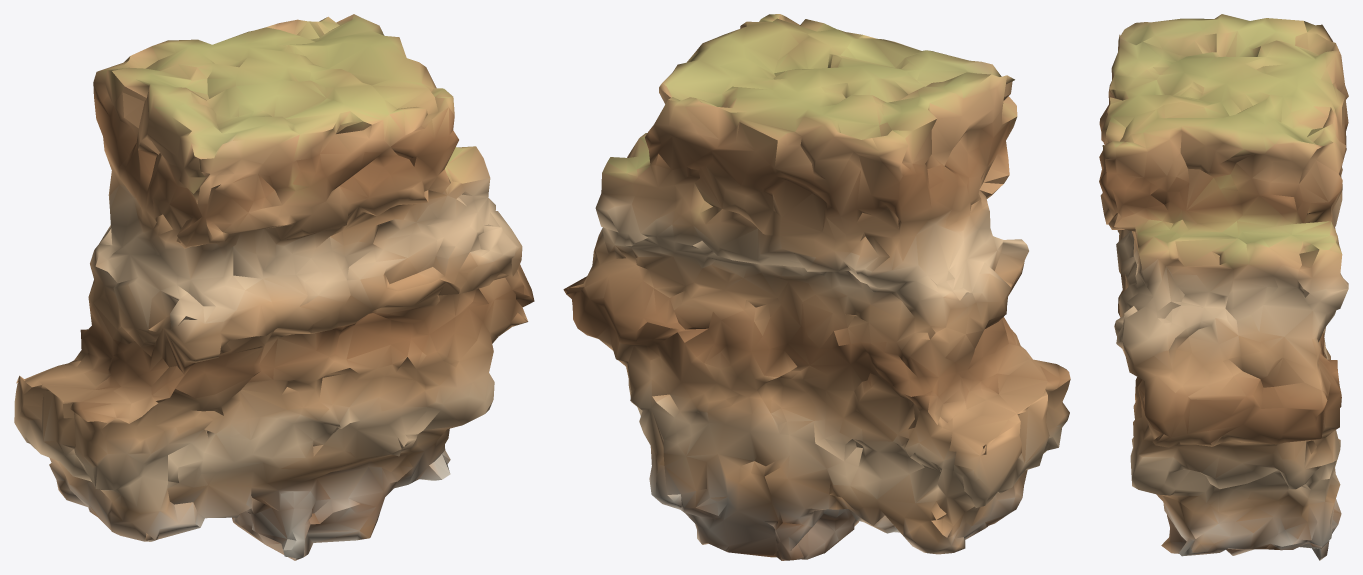
File: shore_cliff_a_lod1.glb
3 renders of one model, left to right at view 1: azimuth 30°, elevation 25°; view 2: azimuth 150°, elevation 25°; view 3: azimuth 270°, elevation 25°, orthographic. The views are drawn at different scales.
Parts seen in each view (by area): view 1: shore_cliff_a.001; view 2: shore_cliff_a.001; view 3: shore_cliff_a.001.
Boxes of the visible parts, box(x1,y1,x2,y2) form: shore_cliff_a.001: box(14, 14, 534, 560); shore_cliff_a.001: box(563, 14, 1070, 560); shore_cliff_a.001: box(1099, 14, 1348, 560).
Size of the model in its own units: 28.8 by 29.47 by 14.56.
